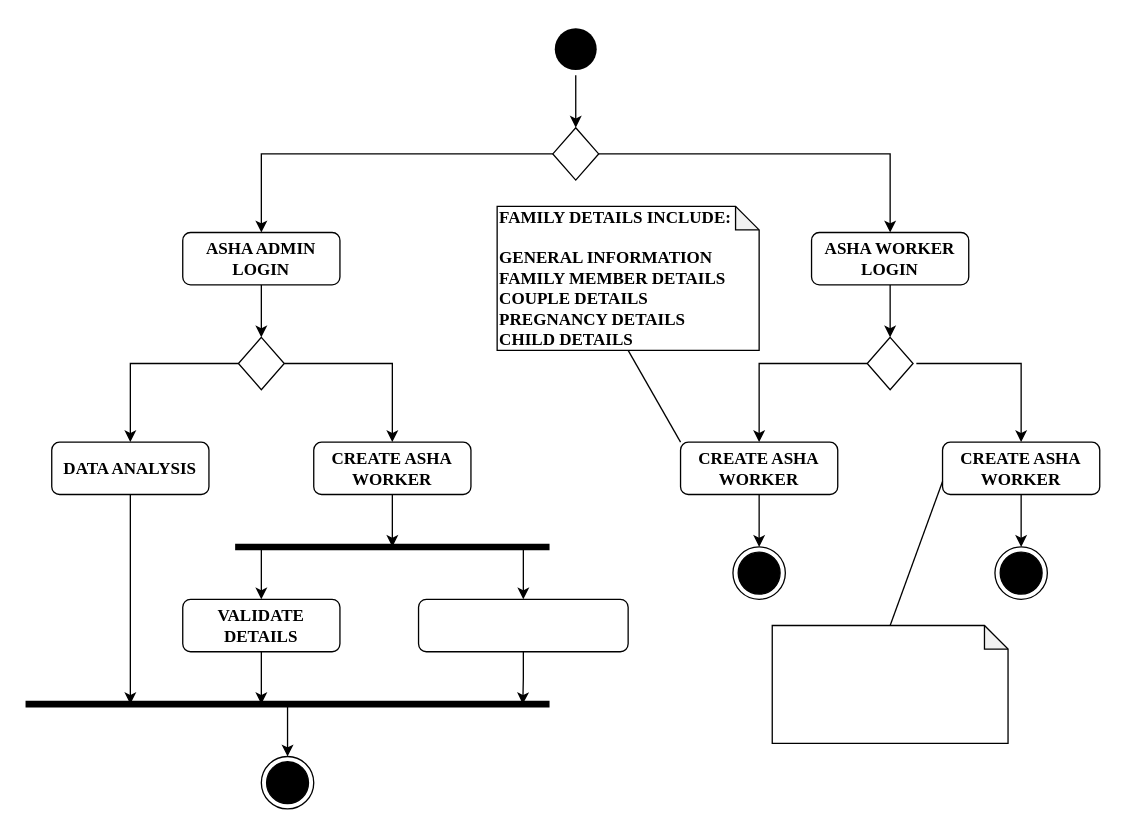
Image size: 1123x832. Some labels were removed from this diagram. The centre of each missing label's shape, as x and y in pixels:
"ASHA WORKER CAN ONLY MODIFY FAMILY DETAILS WHICH ARE ALREADY ADDED BY THEM." goes at point (889, 683).
"SEND USERNAME AND PASSWORD VIA SMS" goes at point (522, 625).
